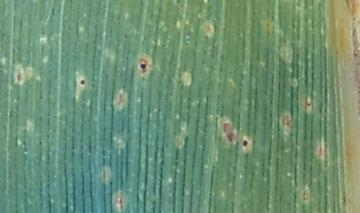tarspot: (139, 62, 147, 71), (241, 139, 248, 147), (305, 100, 312, 108), (79, 79, 86, 86)
